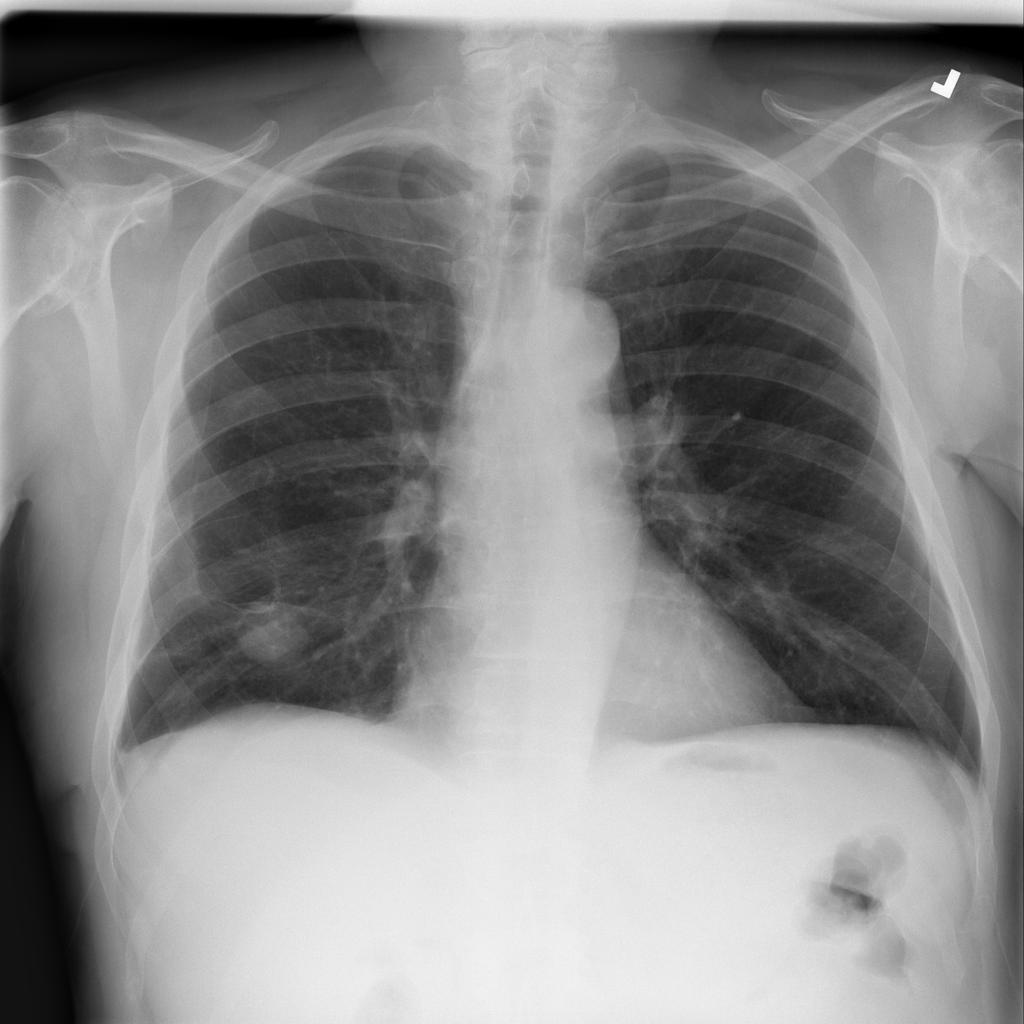nodule: (213, 579, 337, 682)
